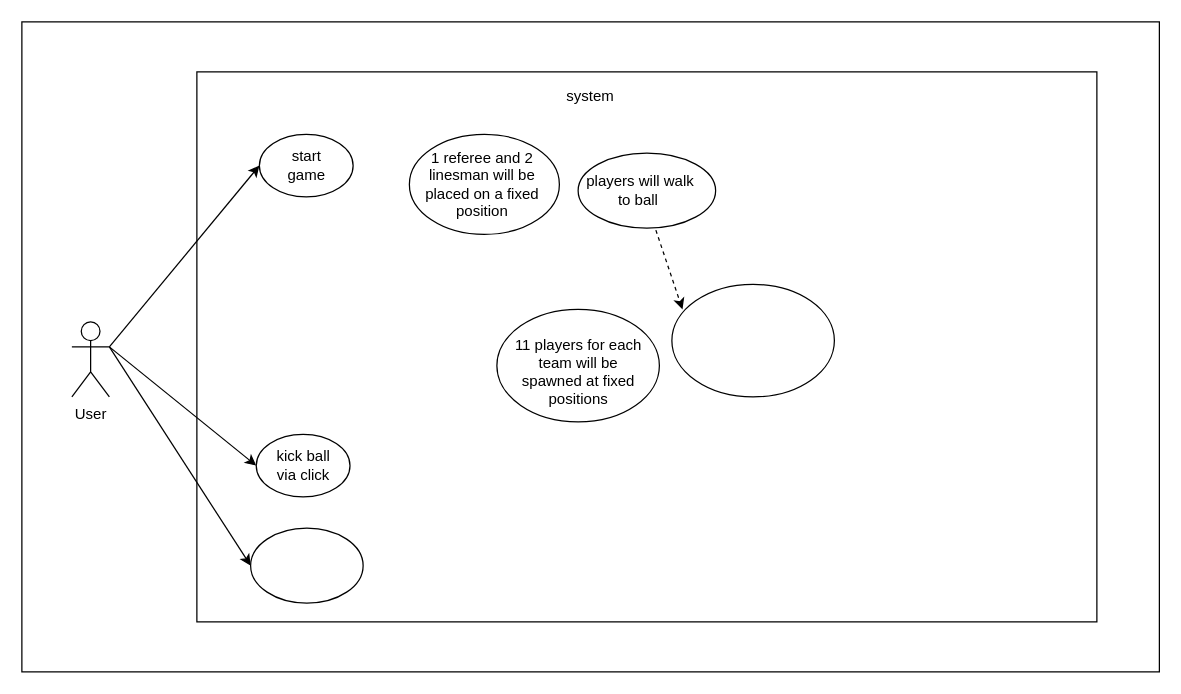
The diagram is 1181 pixels wide and 694 high, and some of its shapes have lost their labels. Here are the shapes that lost their labels. From the top down, the centre of each, then its label:
At [752,340]: "players will walk back at fixed position".
At [306,565]: "change player attributes".
